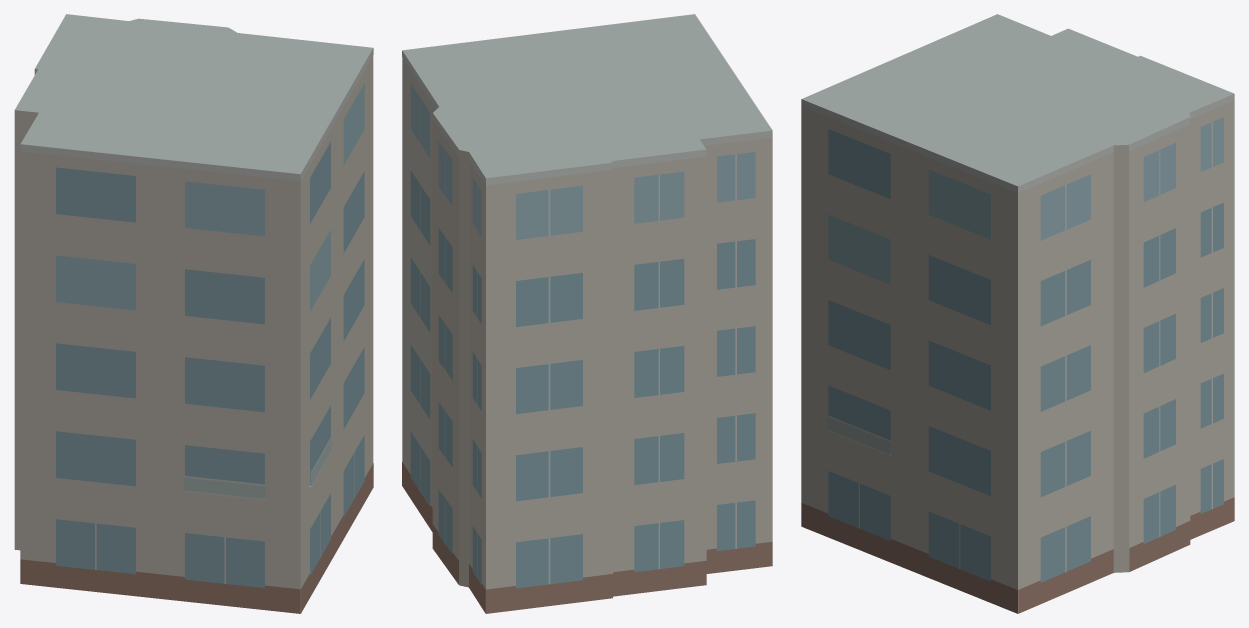
File: survey-upis-32663882.glb
3 renders of one model, left to right at view 1: azimuth 30°, elevation 25°; view 2: azimuth 150°, elevation 25°; view 3: azimuth 270°, elevation 25°, orthographic. The views are drawn at different scales.
Parts seen in each view (by area): view 1: survey-upis-32663882.tmp; view 2: survey-upis-32663882.tmp; view 3: survey-upis-32663882.tmp.
Part boxes in pixels (x1=…): survey-upis-32663882.tmp: x1=14, y1=14, x2=373, y2=613; survey-upis-32663882.tmp: x1=402, y1=14, x2=772, y2=613; survey-upis-32663882.tmp: x1=801, y1=14, x2=1234, y2=613.
Size of the model in its own units: 13.07 by 15.1 by 13.87.
